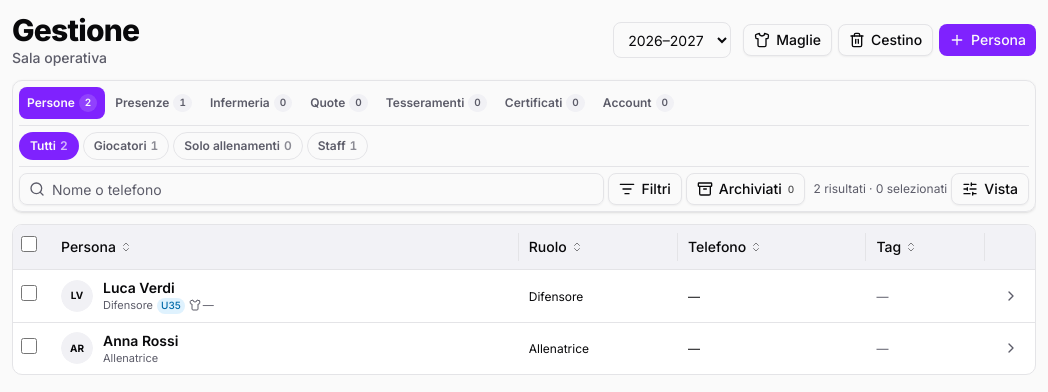
ManagementDashboard operational state › marks every existing passport photo unavailable after a batch error
The image size is (1048, 392).
Expected: the table is shown, [13, 225, 1035, 374]
Click the tab "Tesseramenti 0": (436, 103) [378, 87, 495, 119]
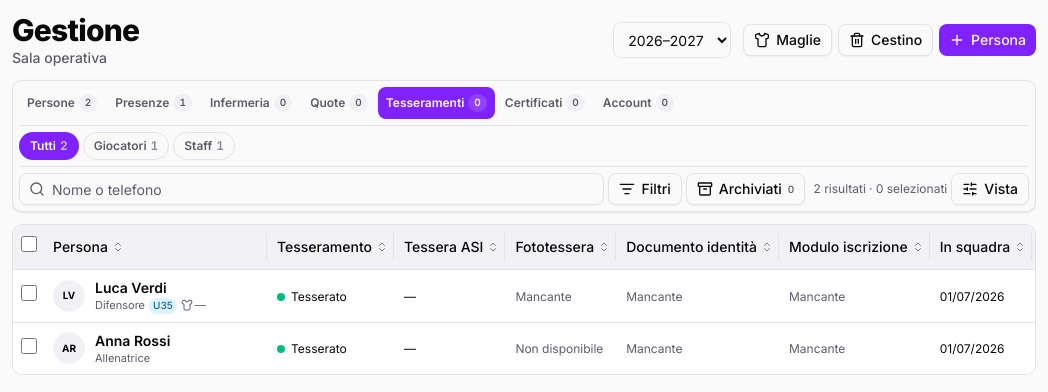
Expected: the text "Non disponibile" is shown, [515, 341, 603, 356]
